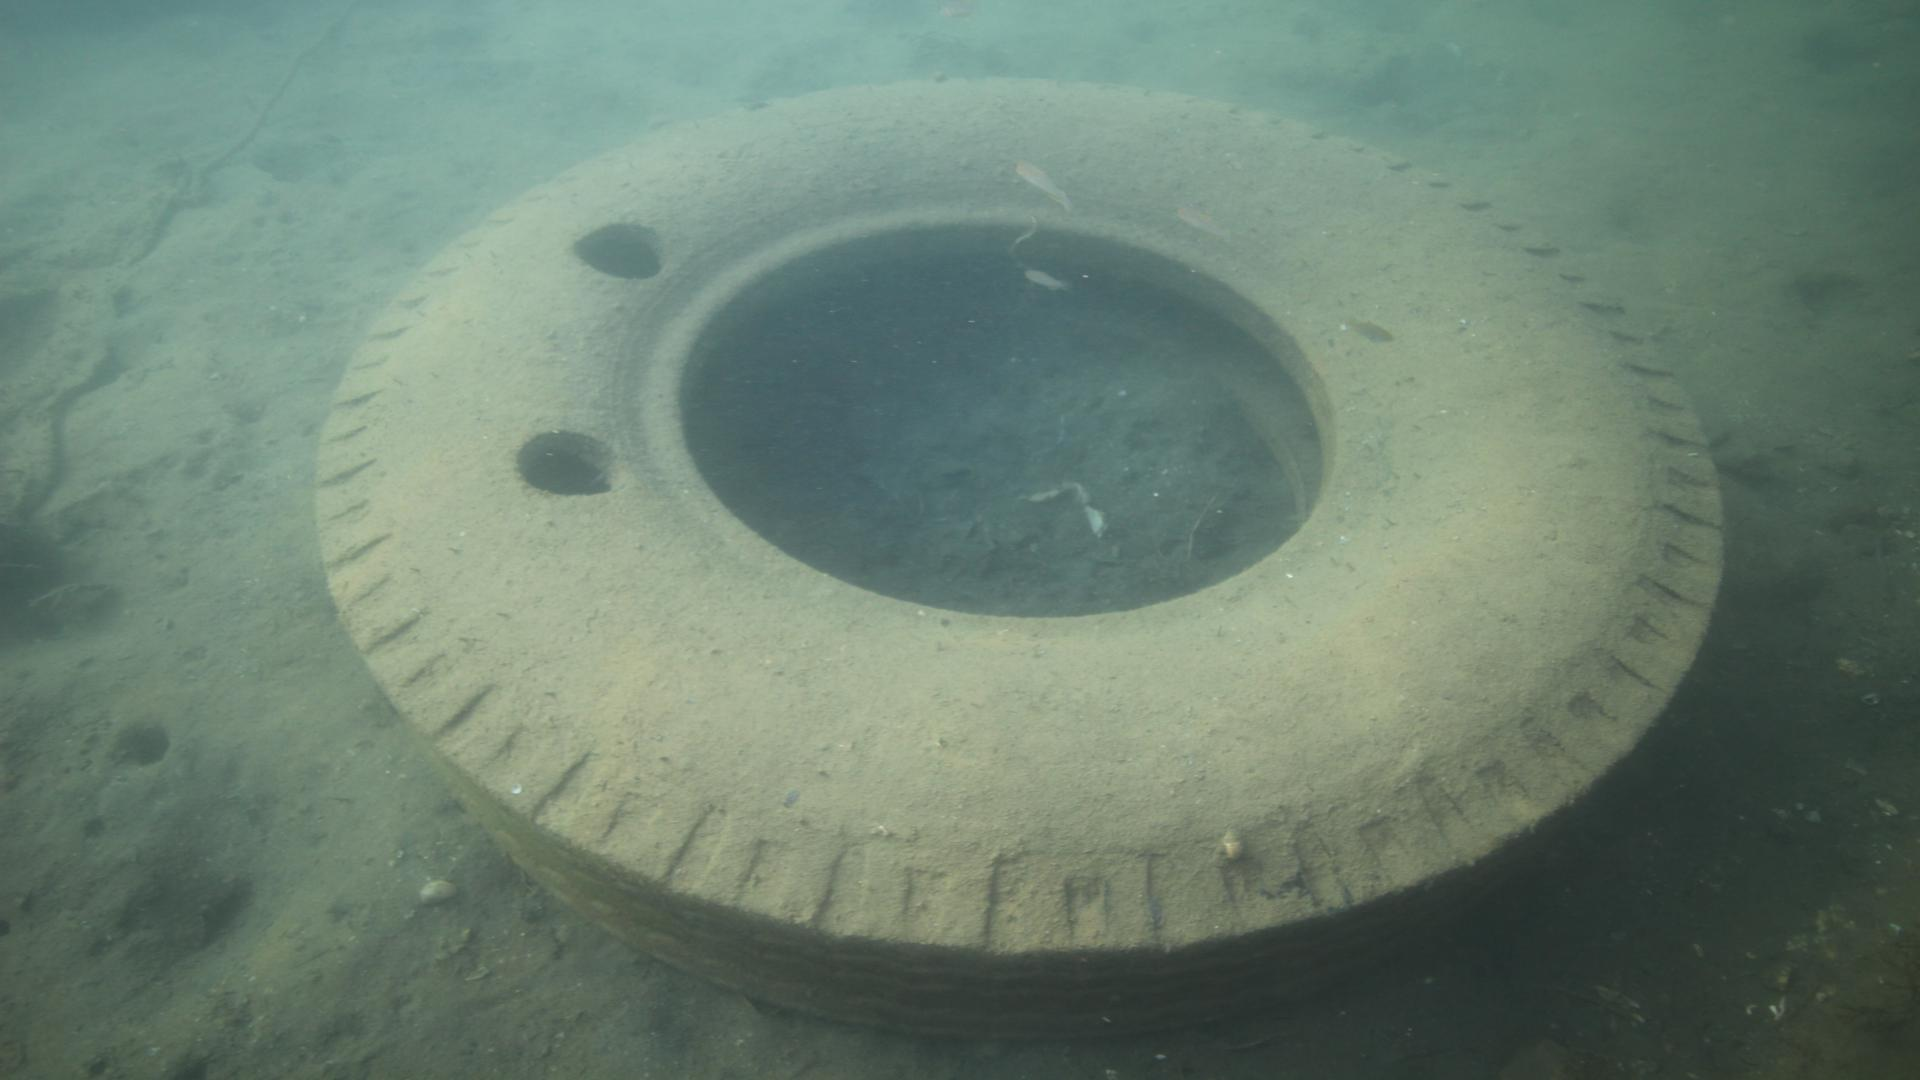tire: (311, 70, 1727, 1054)
